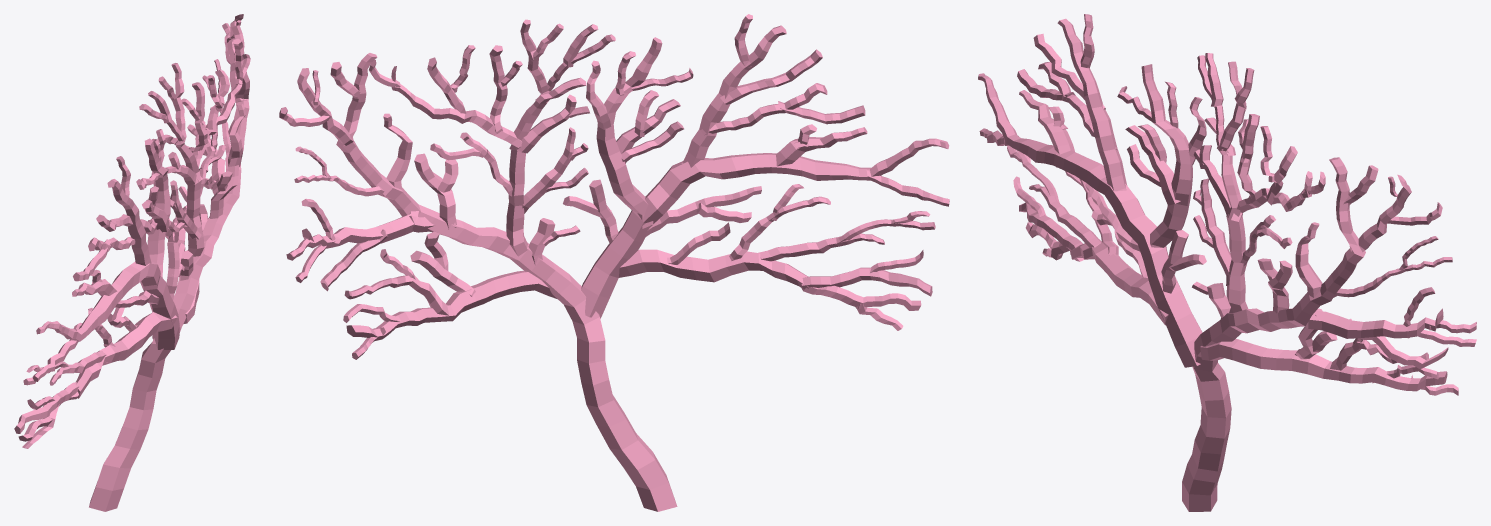
Rendered from underwater_enviro_coral.glb.
3 renders of one model, left to right at view 1: azimuth 30°, elevation 25°; view 2: azimuth 150°, elevation 25°; view 3: azimuth 270°, elevation 25°, orthographic. The views are drawn at different scales.
Parts seen in each view (by area): view 1: group1533979519; view 2: group1533979519; view 3: group1533979519.
Part boxes in pixels (<box>): group1533979519: <box>14,14,250,511</box>; group1533979519: <box>279,14,949,511</box>; group1533979519: <box>978,14,1476,511</box>.
Size of the model in its own units: 1.88 by 1.89 by 1.74.
